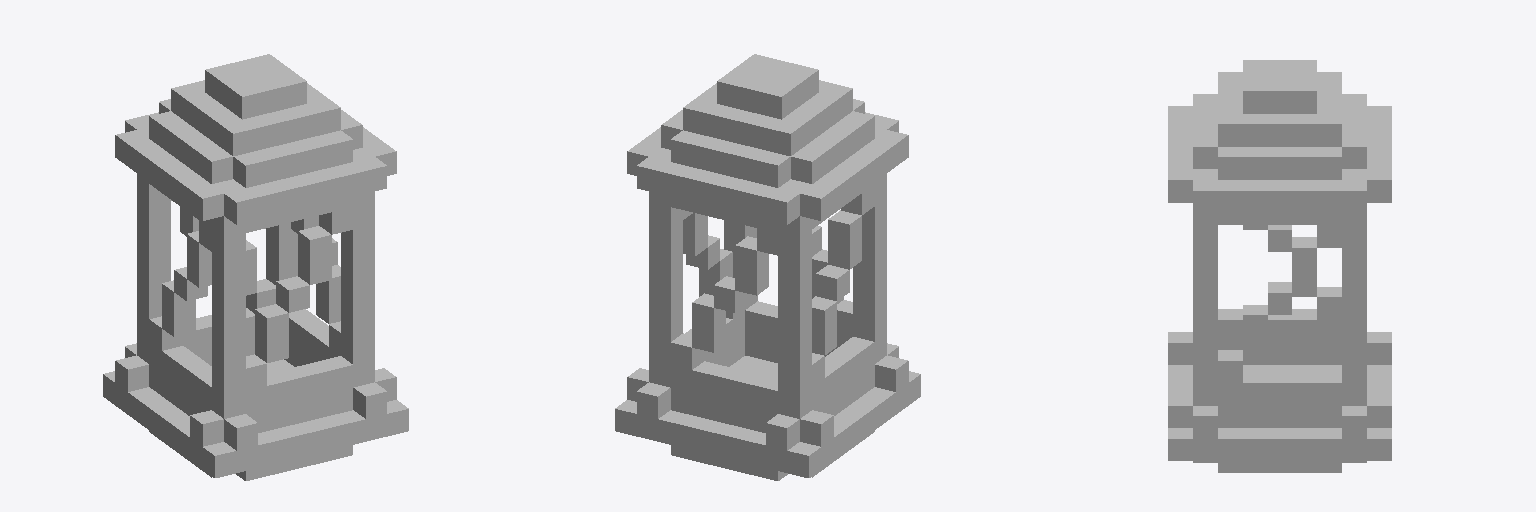
File: SL_Lantern.obj
The picture shows the model from 3 angles: view 1: azimuth 30°, elevation 25°; view 2: azimuth 150°, elevation 25°; view 3: azimuth 270°, elevation 25°; orthographic projection.
Parts seen in each view (by area): view 1: SL_Lantern; view 2: SL_Lantern; view 3: SL_Lantern.
Part boxes in pixels (x1,y1,x2,y2): SL_Lantern: (103, 54, 408, 480); SL_Lantern: (615, 54, 920, 480); SL_Lantern: (1168, 60, 1391, 472).
Size of the model in its own units: 9 by 16 by 9.